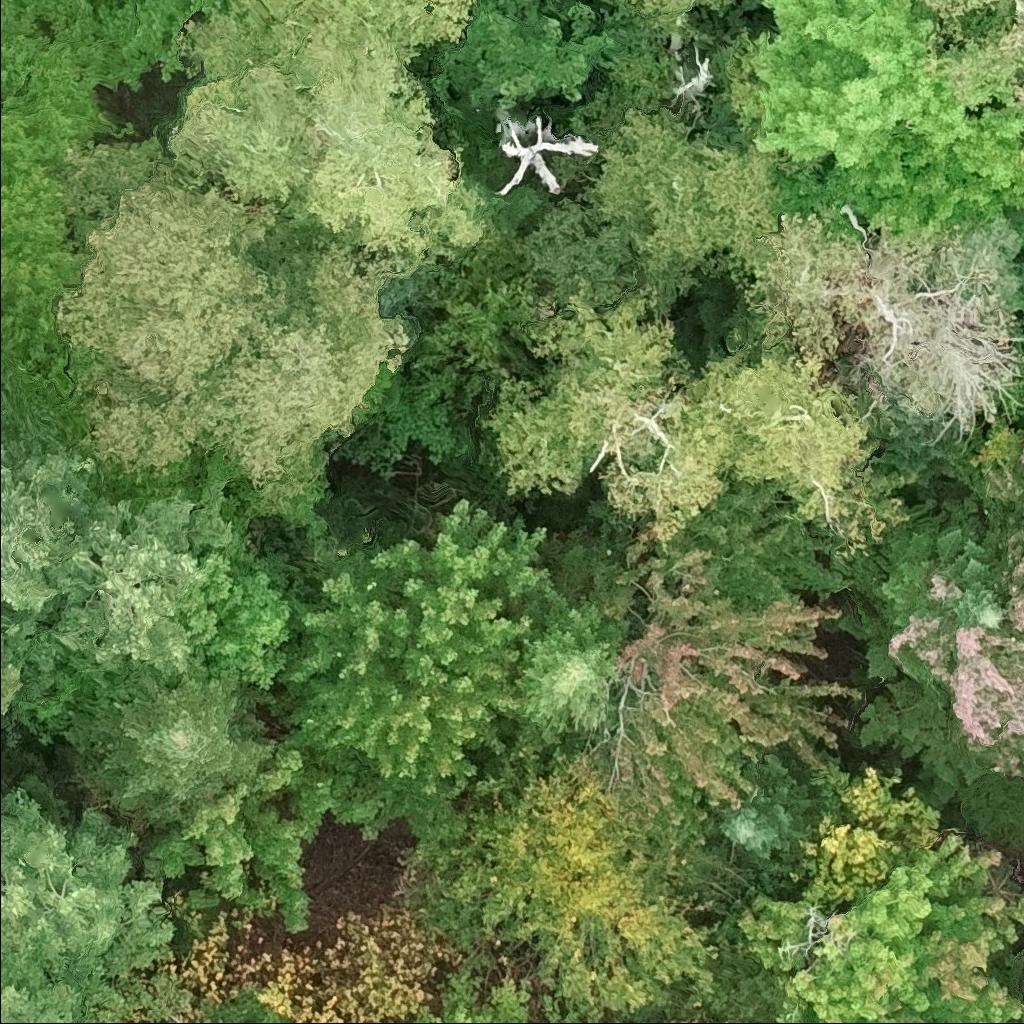crown: (54, 137, 411, 526), (596, 484, 868, 877), (277, 496, 553, 864), (167, 0, 503, 283), (423, 746, 723, 1015), (719, 0, 1023, 241), (595, 341, 918, 558), (0, 0, 142, 450), (0, 440, 234, 678), (739, 831, 1023, 1023), (477, 277, 697, 498), (833, 505, 1011, 758), (157, 748, 386, 941), (585, 102, 777, 302), (0, 776, 177, 988), (58, 673, 283, 834), (889, 531, 1023, 779), (798, 758, 945, 909), (179, 527, 306, 693), (514, 584, 640, 746), (713, 756, 828, 892), (77, 0, 215, 83), (492, 108, 598, 198), (408, 964, 537, 1023), (0, 596, 62, 717), (919, 0, 1023, 72), (0, 975, 89, 1023), (208, 988, 309, 1023), (620, 0, 736, 19), (0, 369, 22, 465), (1020, 443, 1023, 472), (1019, 144, 1023, 158), (1021, 517, 1023, 531)
